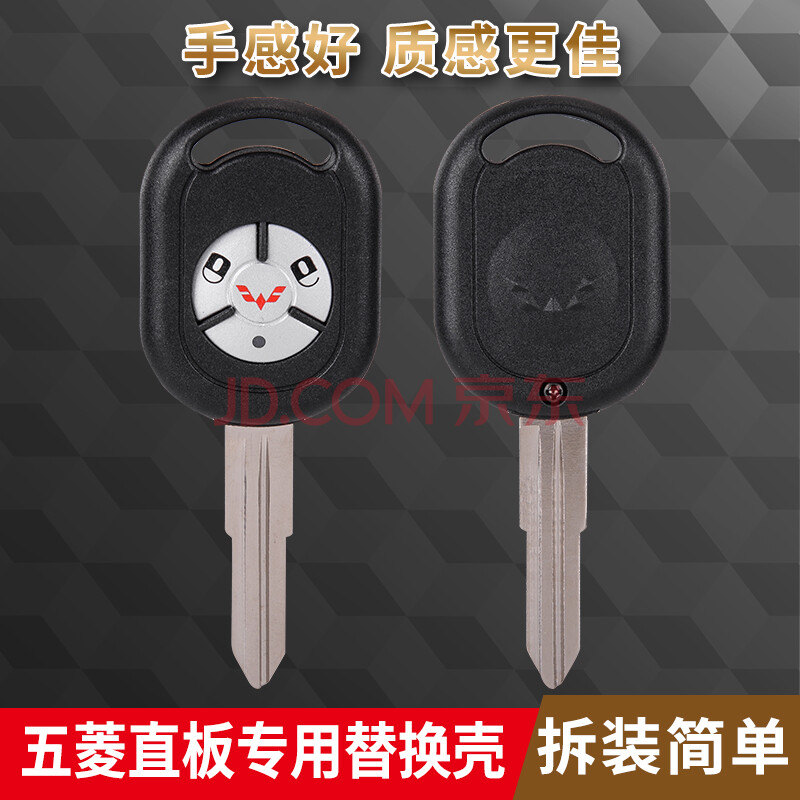key: (131, 91, 384, 695), (432, 91, 673, 692)
